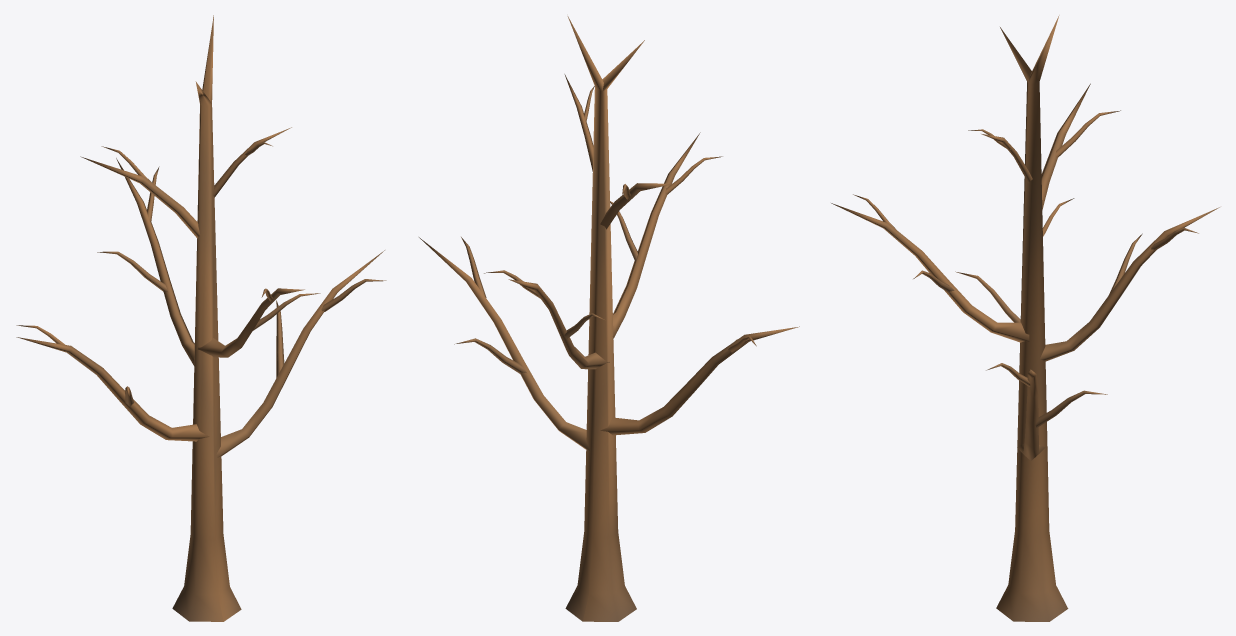
The model's file is Trunk_WoodBranching_Medium.fbx.
3 views of the same model, side by side, from view 1: azimuth 30°, elevation 25°; view 2: azimuth 150°, elevation 25°; view 3: azimuth 270°, elevation 25° (orthographic). The views are drawn at different scales.
Parts seen in each view (by area): view 1: Trunk_WoodBranching_Medium; view 2: Trunk_WoodBranching_Medium; view 3: Trunk_WoodBranching_Medium.
Boxes of the visible parts, x1=… form: Trunk_WoodBranching_Medium: x1=16, y1=15, x2=386, y2=621; Trunk_WoodBranching_Medium: x1=419, y1=16, x2=799, y2=621; Trunk_WoodBranching_Medium: x1=831, y1=15, x2=1219, y2=621.
Bounding box in the file's own units: 543 × 812 × 477.
1 material, 1 textured.
